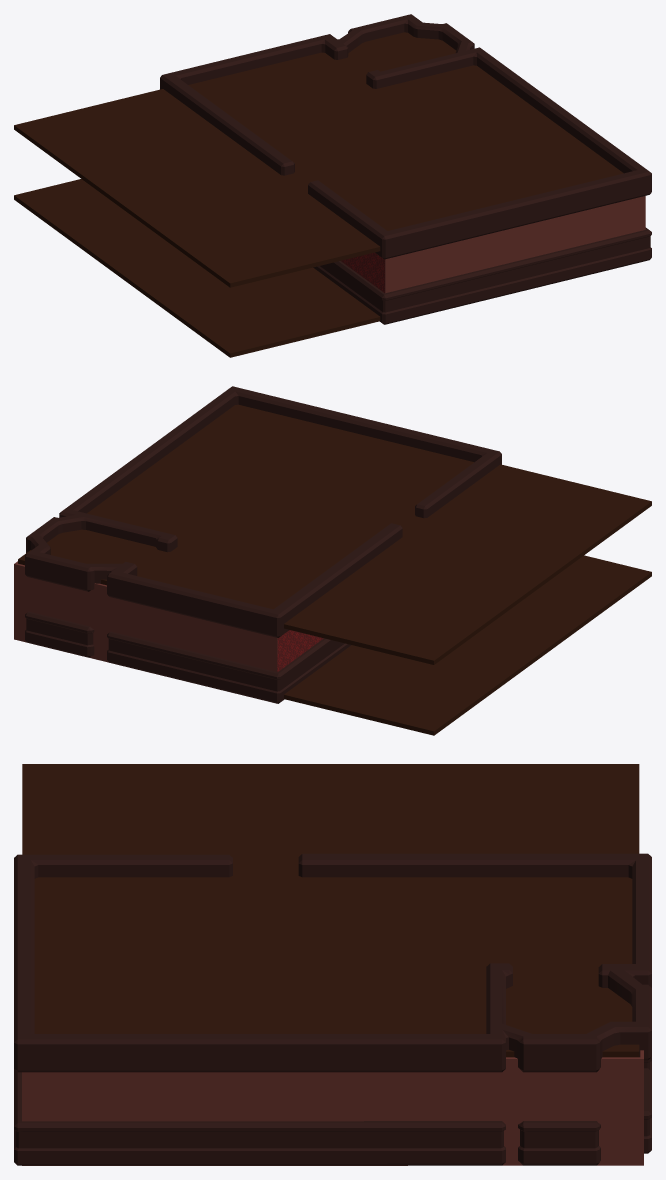
The model's file is Gamearea_layout_02.fbx.
3 views of the same model, one above another, from view 1: azimuth 30°, elevation 25°; view 2: azimuth 150°, elevation 25°; view 3: azimuth 270°, elevation 25° (orthographic). The views are drawn at different scales.
Visible parts, largest first — view 1: ceiling, wall_02, floor, wall_01, wallpaper_01; view 2: ceiling, wall_02, floor, wall_01, wallpaper_01; view 3: ceiling, wall_02, wall_01.
Part boxes in pixels (bbox=[...]): ceiling: bbox=[14, 32, 623, 287]; wall_02: bbox=[160, 14, 651, 324]; floor: bbox=[14, 179, 380, 357]; wall_01: bbox=[385, 196, 645, 293]; wallpaper_01: bbox=[341, 252, 384, 292]; ceiling: bbox=[18, 404, 651, 664]; wall_02: bbox=[25, 386, 501, 703]; floor: bbox=[284, 555, 651, 735]; wall_01: bbox=[14, 561, 277, 671]; wallpaper_01: bbox=[277, 630, 323, 671]; ceiling: bbox=[22, 764, 639, 1057]; wall_02: bbox=[14, 853, 651, 1165]; wall_01: bbox=[22, 1050, 643, 1165].
Size of the model in its own units: 25.49 by 5.22 by 23.49.
